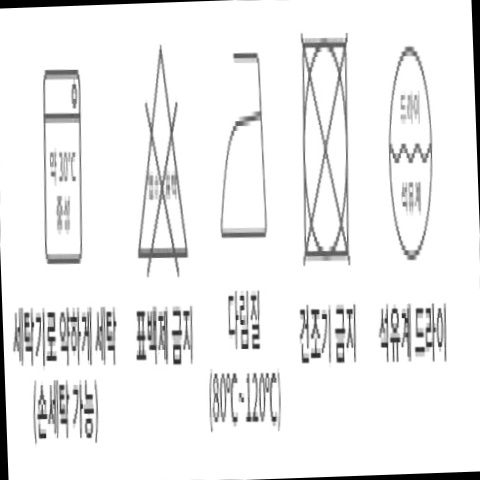30C: (29, 63, 97, 276)
DN_tumble_dry: (284, 23, 374, 276)
dry_clean_petrol_only: (373, 28, 454, 270)
iron: (202, 44, 281, 254)
non_chlorine_bleach: (126, 43, 204, 281)
